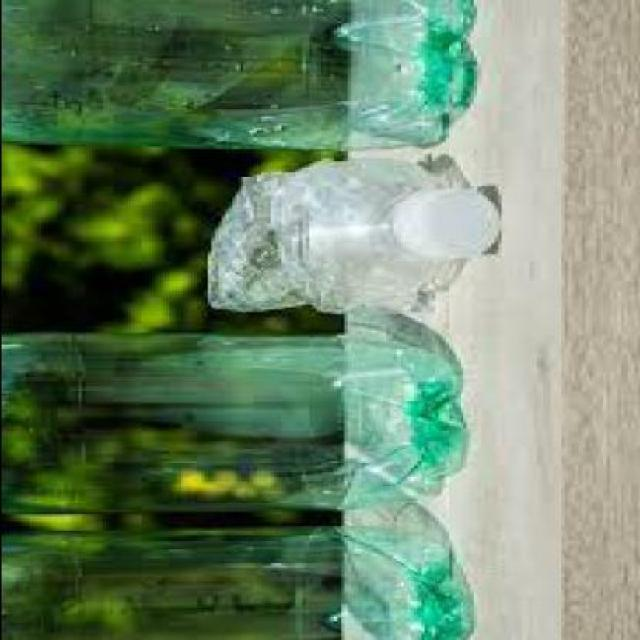PLASTIC: (1, 331, 458, 509), (1, 0, 472, 151), (1, 528, 462, 638), (199, 156, 493, 315), (388, 184, 499, 256)
